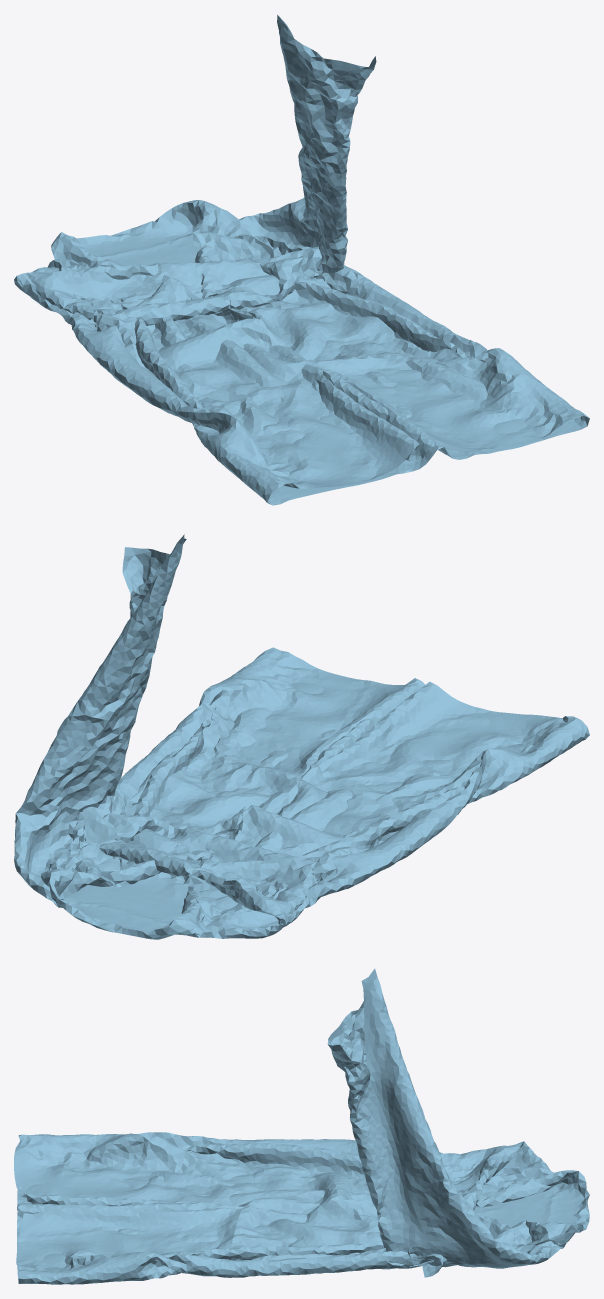
The model's file is frame_12.glb.
3 views of the same model, one above another, from view 1: azimuth 30°, elevation 25°; view 2: azimuth 150°, elevation 25°; view 3: azimuth 270°, elevation 25° (orthographic). The views are drawn at different scales.
Parts seen in each view (by area): view 1: frame_12.obj; view 2: frame_12.obj; view 3: frame_12.obj.
Boxes of the visible parts, left/top/right/bottom form: frame_12.obj: left=14, top=15, right=589, bottom=505; frame_12.obj: left=14, top=534, right=589, bottom=939; frame_12.obj: left=14, top=968, right=589, bottom=1284.
Bounding box in the file's own units: 0.9613 × 0.8551 × 1.65.
